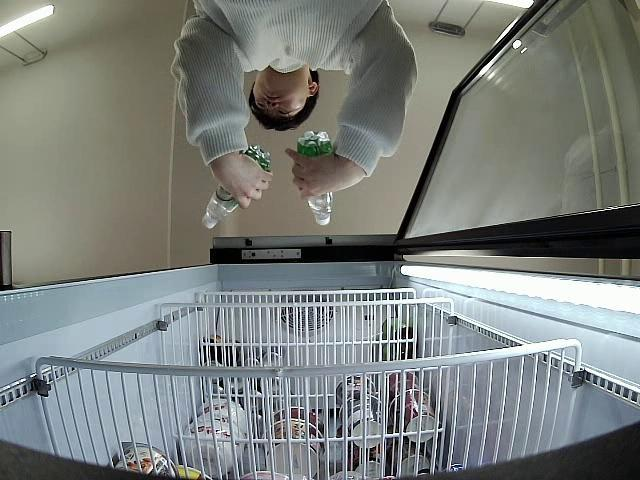18_trevi: (200, 144, 270, 230), (296, 130, 335, 228)
